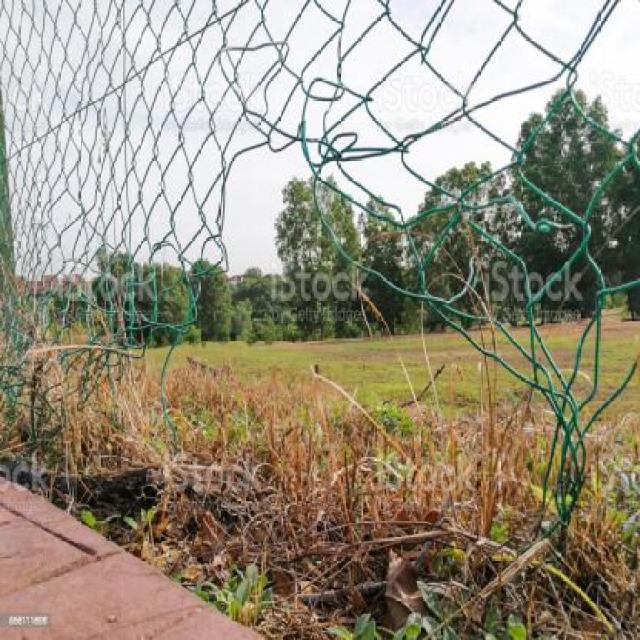fence line: (166, 156, 489, 505)
